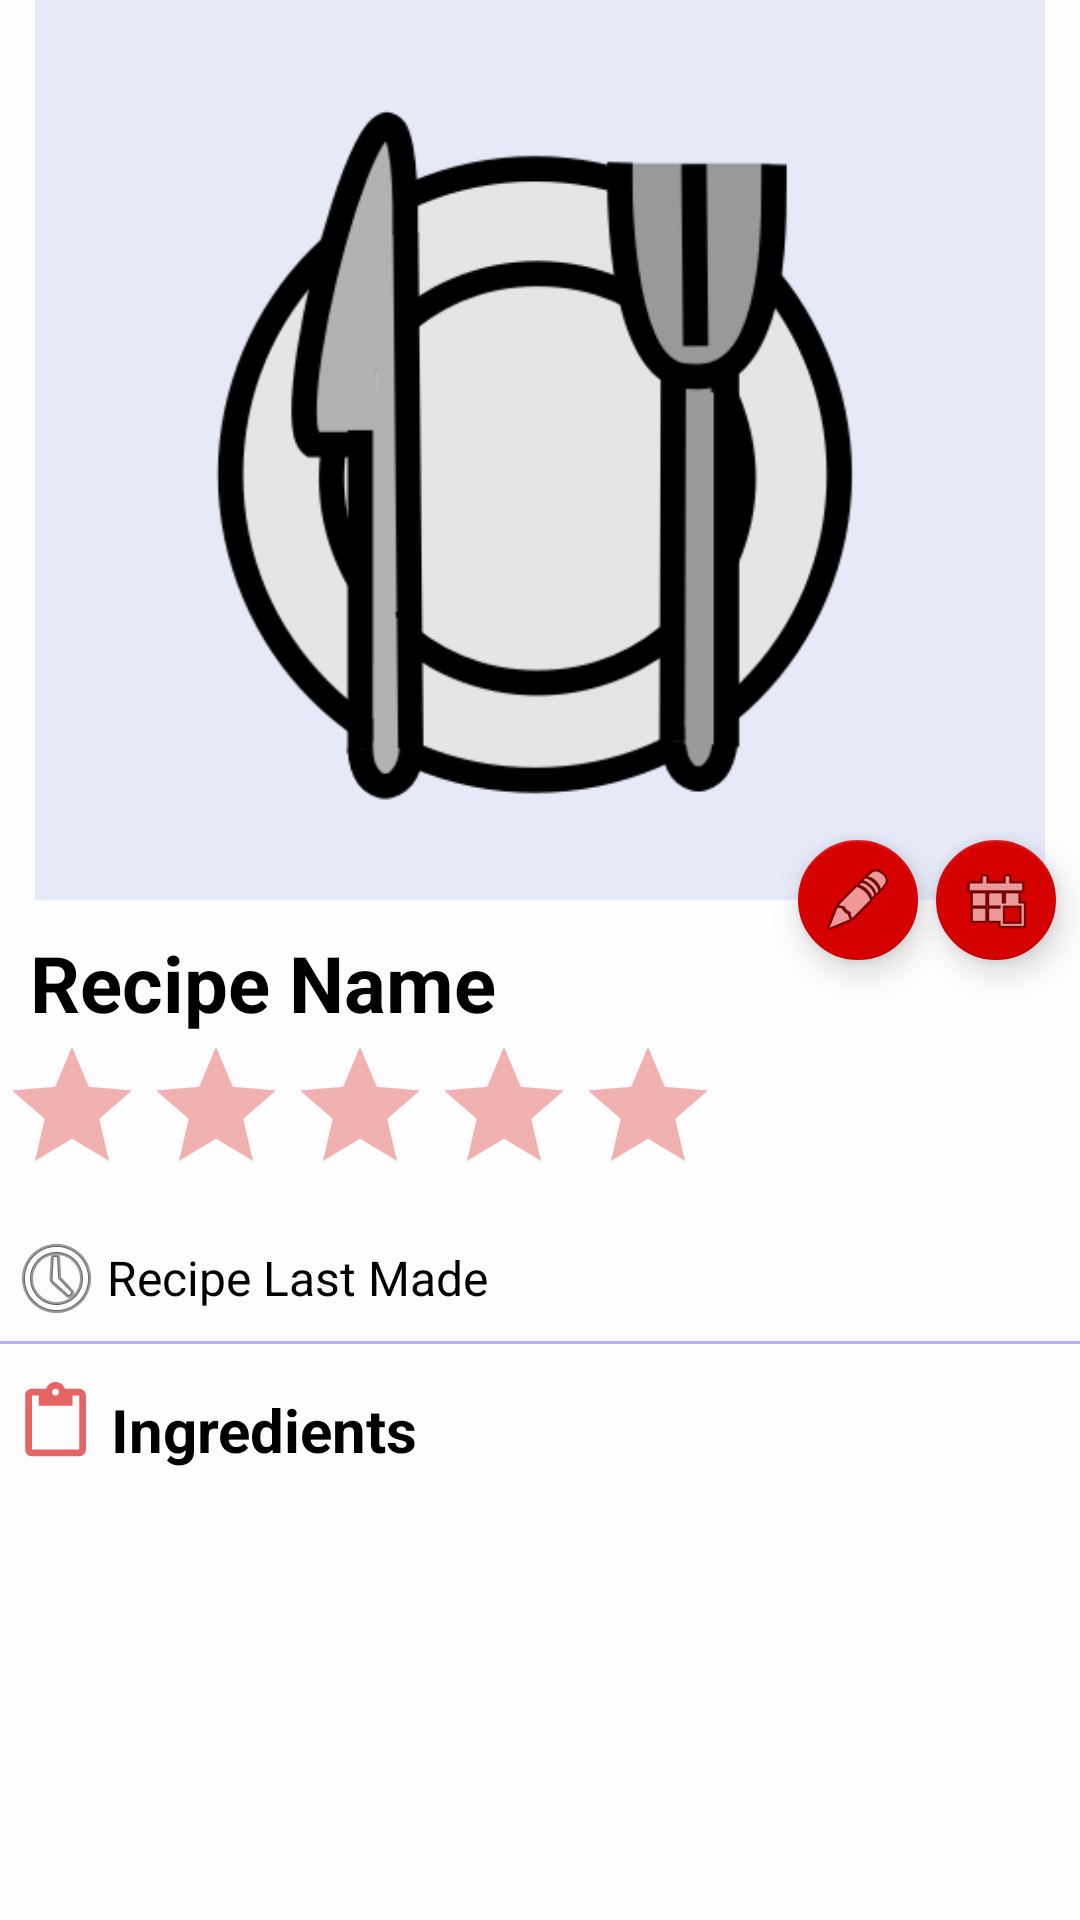

Named icons in this screenshot (1080px x 1920px) and their bounding boxes, Rect(x1, y1, x2, y2):
edit: Rect(798, 840, 918, 960)
recent history: Rect(22, 1244, 91, 1313)
today: Rect(936, 840, 1056, 960)
